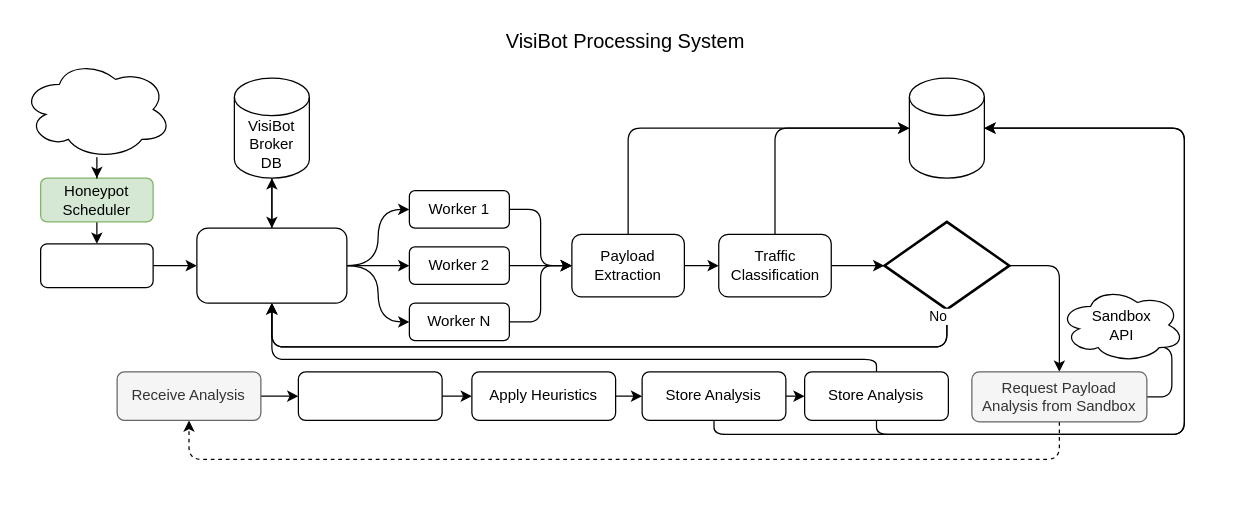
This 1250x505 diagram has some shape labels left out. Each missing label, with the centre of its shape:
"Create Tasks" goes at [96,265].
"Honeypot Service" goes at [96,108].
"Payloads found?" goes at [946,265].
"Process Strings" goes at [369,395].
"Processing Queue" goes at [271,265].
"VisiBot DB" goes at [946,127].
